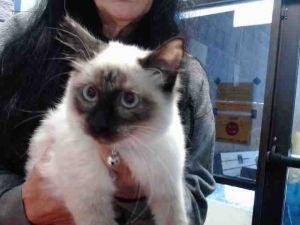siamese: (51, 11, 196, 154)
